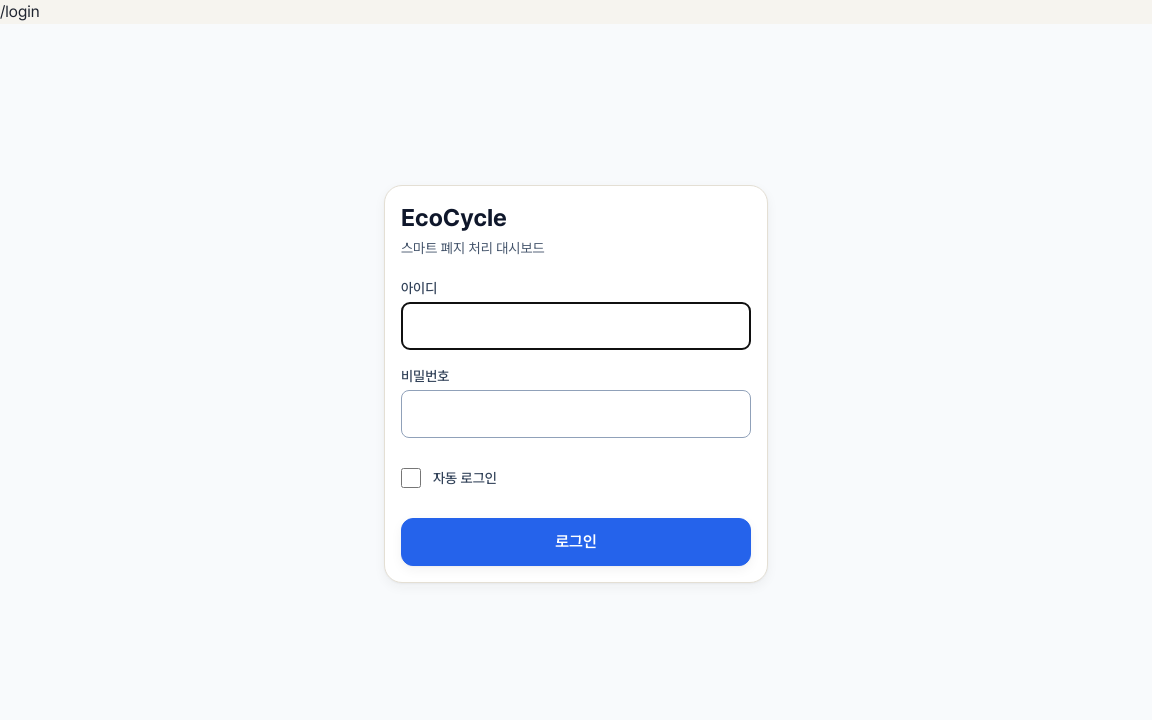
Test: LoginPage › 로그인에 성공하면 홈으로 간다
In the field labelled "아이디": (576,326) [401,302,751,350], type "admin"
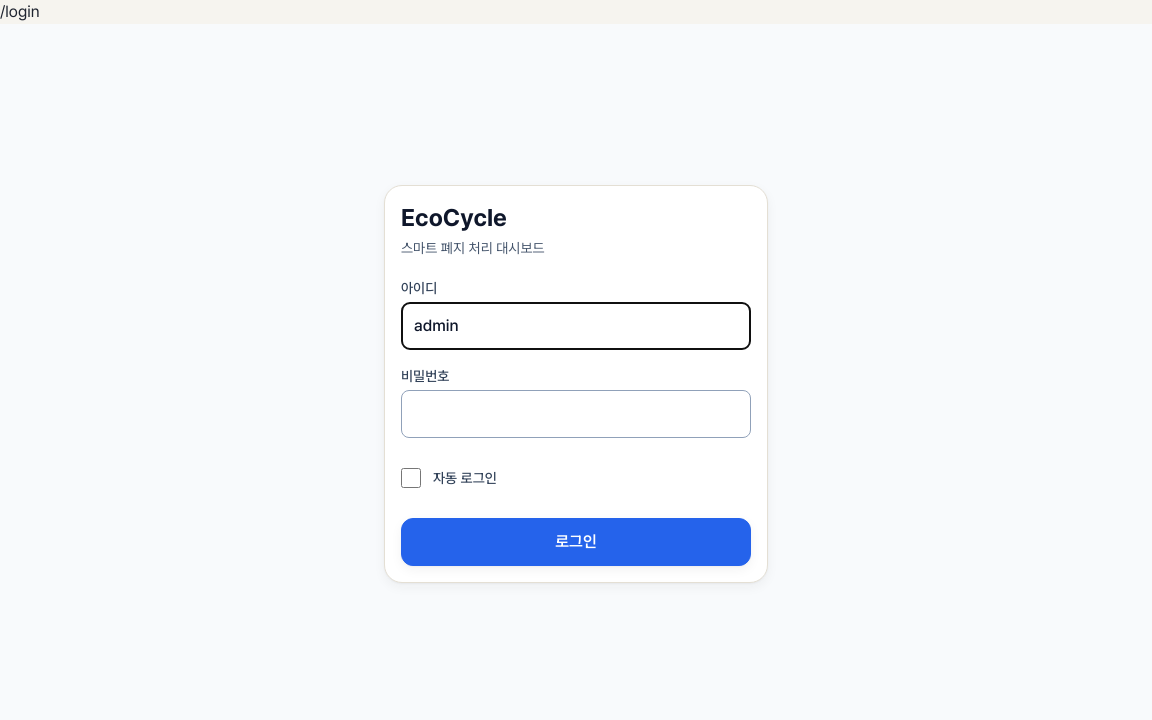
In the password field labelled "비밀번호": (576,414) [401,390,751,438], type "1234"
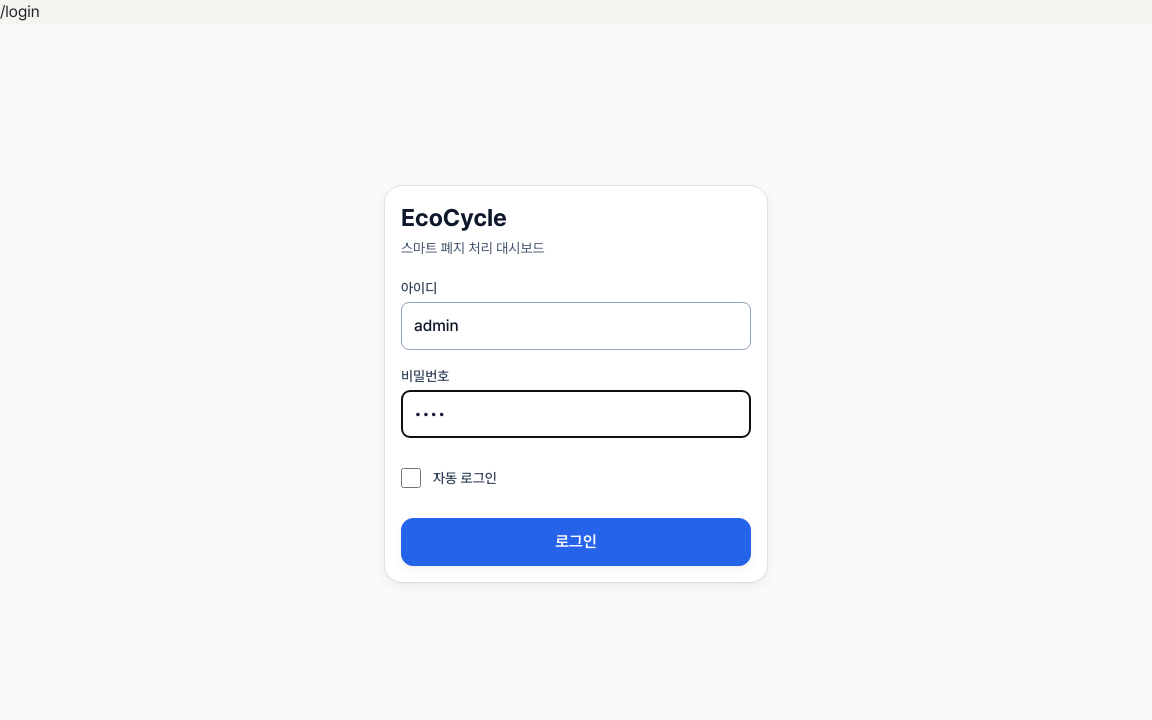
Click the button "로그인": (576,542) [401,518,751,566]
(page scrolled)
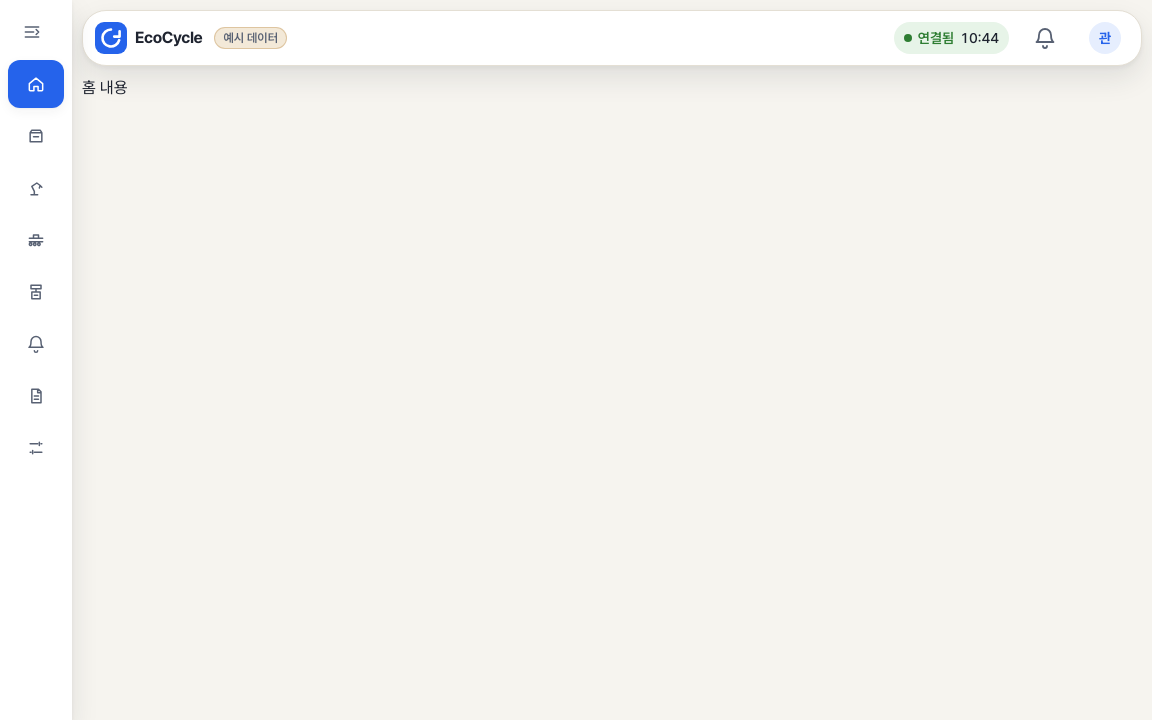
Expected: the element showing "홈 내용" is shown, [82,78,128,97]
